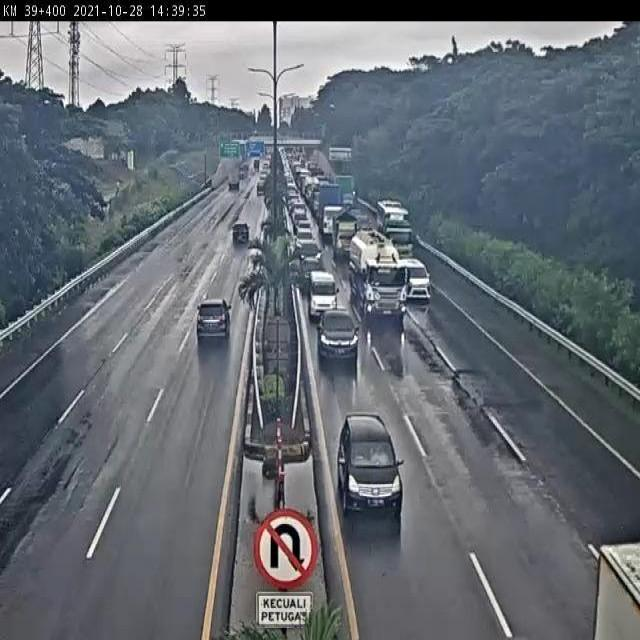car: (339, 409, 412, 514), (312, 309, 360, 360), (192, 290, 233, 346), (302, 267, 351, 312), (391, 211, 427, 265), (403, 255, 439, 297), (228, 227, 255, 261)
small truck: (595, 536, 638, 640)
